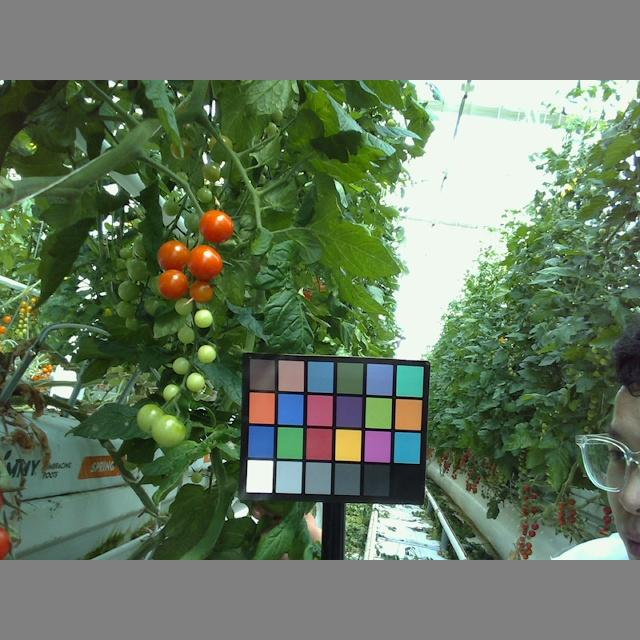green: (153, 413, 188, 446), (135, 404, 164, 435), (193, 308, 215, 330), (201, 161, 222, 180), (188, 373, 207, 392), (198, 344, 215, 362), (177, 326, 194, 343), (163, 383, 179, 401), (173, 300, 192, 315), (197, 185, 213, 201), (173, 357, 187, 372)
pink: (188, 246, 223, 280), (200, 209, 234, 243), (156, 241, 190, 273), (156, 270, 187, 298), (190, 281, 216, 303)
